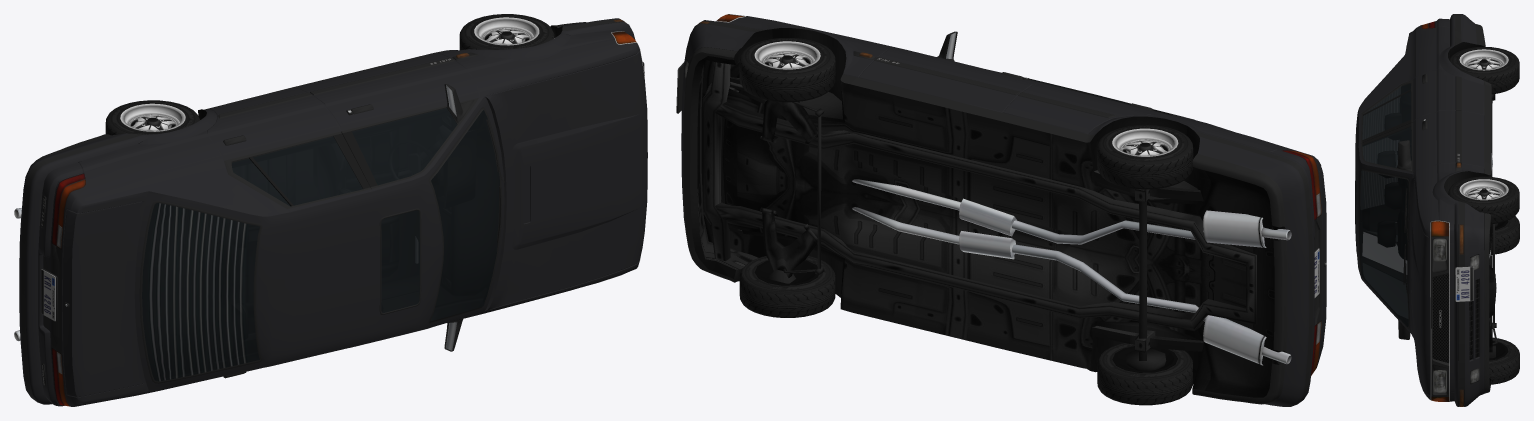
File: model_paint1.gltf
The picture shows the model from 3 angles, left to right: view 1: azimuth 30°, elevation 25°; view 2: azimuth 150°, elevation 25°; view 3: azimuth 270°, elevation 25°; orthographic projection. The views are drawn at different scales.
Parts seen in each view (by area): view 1: kiri86; view 2: kiri86; view 3: kiri86.
Part boxes in pixels (x1=…): kiri86: x1=14, y1=14, x2=647, y2=406; kiri86: x1=676, y1=14, x2=1326, y2=406; kiri86: x1=1355, y1=14, x2=1519, y2=406.
Size of the model in its own units: 4.31 by 1.76 by 1.32.
8 materials, 7 textured.
